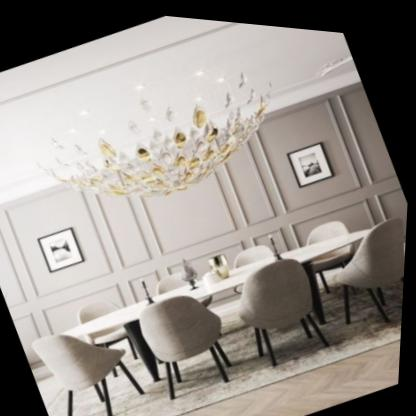Chair: (240, 252, 333, 360), (35, 332, 149, 416), (332, 208, 408, 317), (142, 291, 232, 378)
Futec frame: (0, 77, 403, 314)
Wooden floor: (170, 332, 404, 416)
